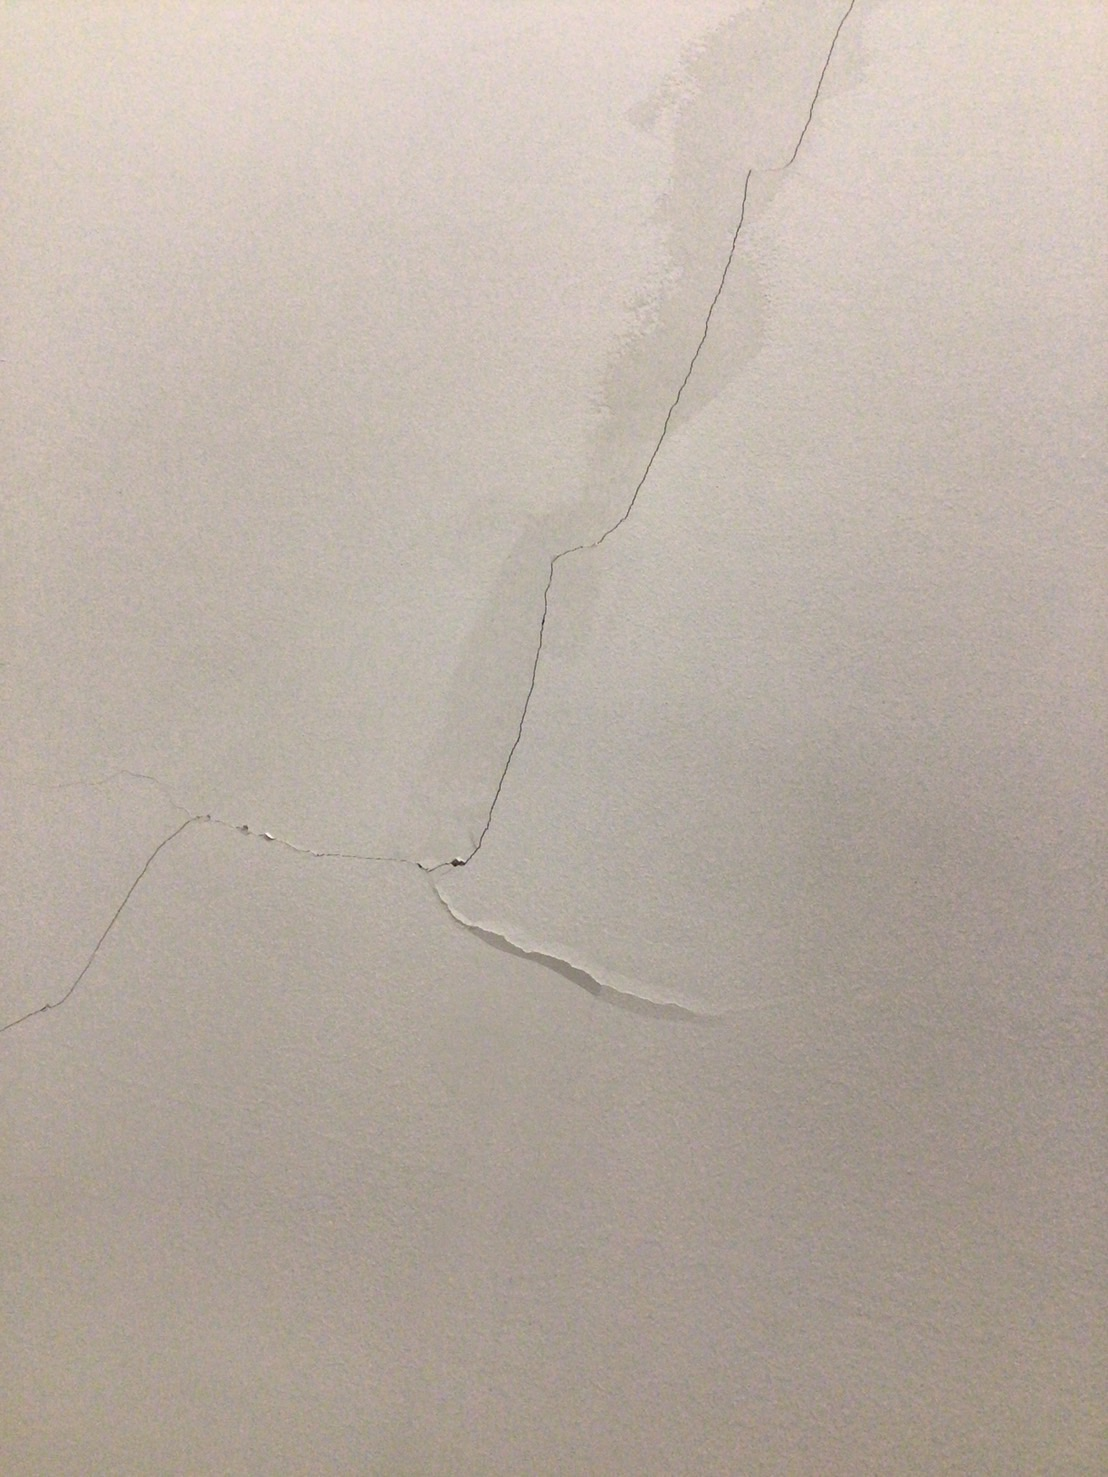Low: (9, 1, 926, 1057)
